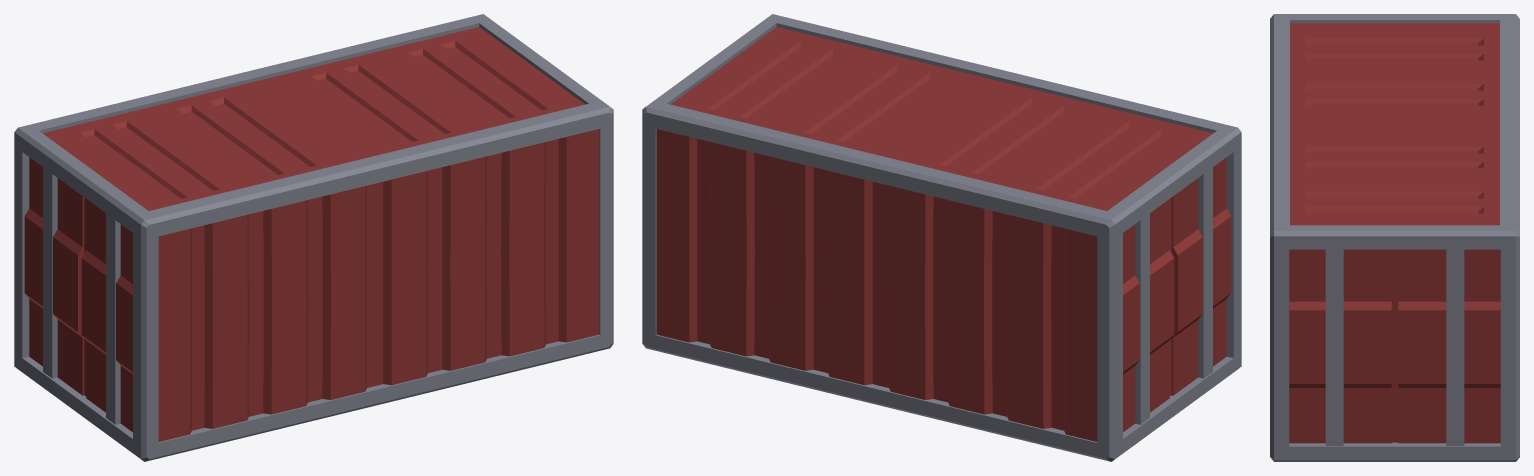
Rendered from shipping-container.glb.
The picture shows the model from 3 angles, left to right: view 1: azimuth 30°, elevation 25°; view 2: azimuth 150°, elevation 25°; view 3: azimuth 270°, elevation 25°; orthographic projection. The views are drawn at different scales.
Visible parts, largest first — view 1: Container_Long; view 2: Container_Long; view 3: Container_Long.
Boxes of the visible parts, <box> form: Container_Long: <box>14,14,613,461</box>; Container_Long: <box>642,14,1241,461</box>; Container_Long: <box>1270,14,1519,461</box>.
Bounding box in the file's own units: 4.36 × 2.13 × 2.09.
